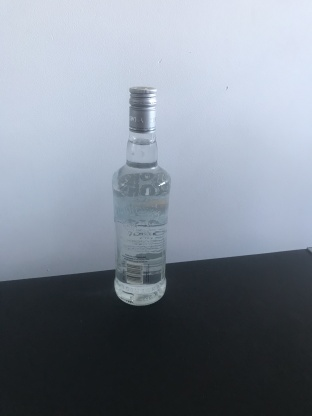nakretka: (127, 84, 158, 133)
